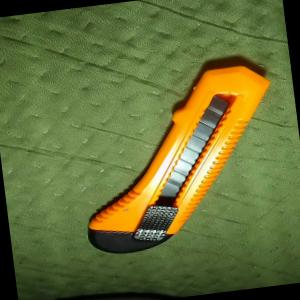estilete: (68, 62, 288, 258)
